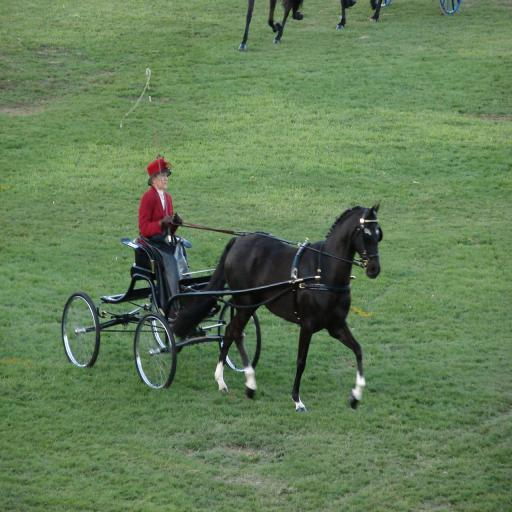horse: (164, 202, 384, 412)
